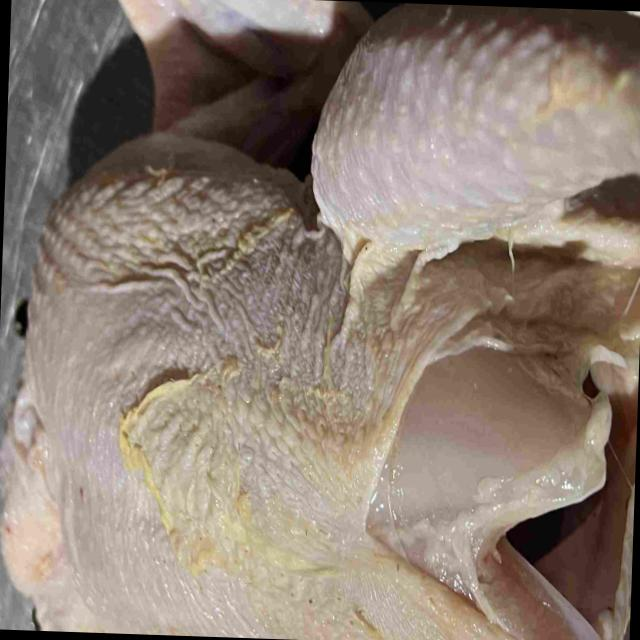breast: (31, 125, 592, 640)
leg: (308, 2, 640, 241)
neck: (0, 396, 110, 633)
wing: (116, 0, 375, 173)
